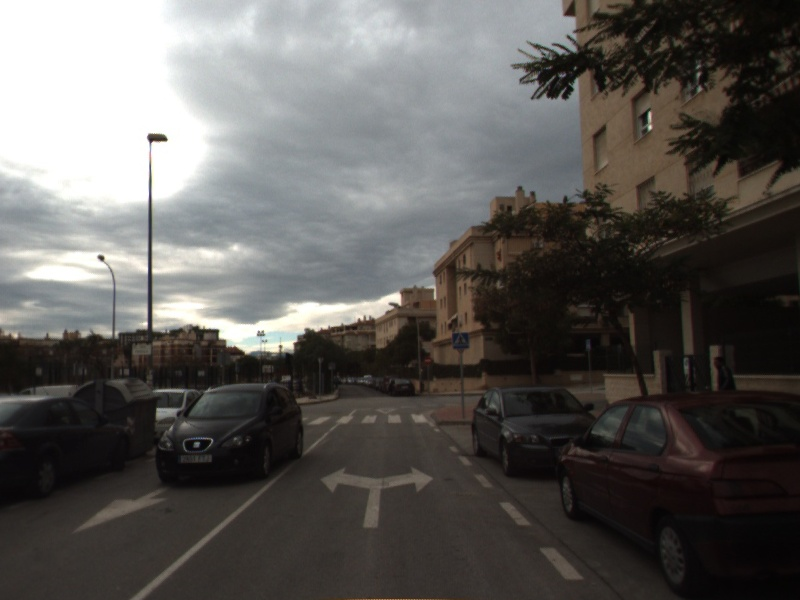LEFT_RIGHT: (317, 463, 437, 531)
